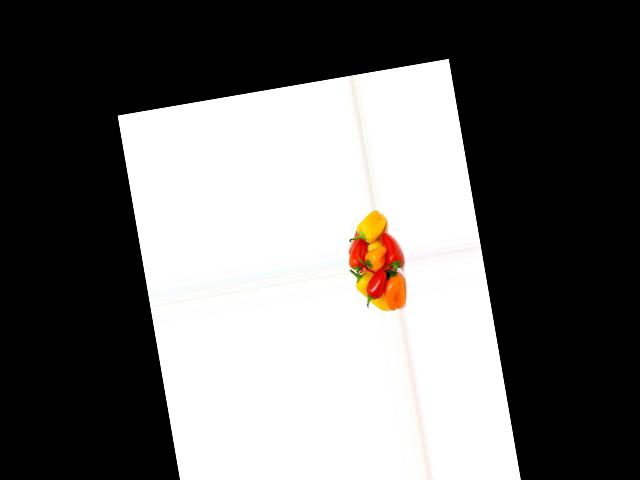bell_pepper: (351, 268, 388, 315)
